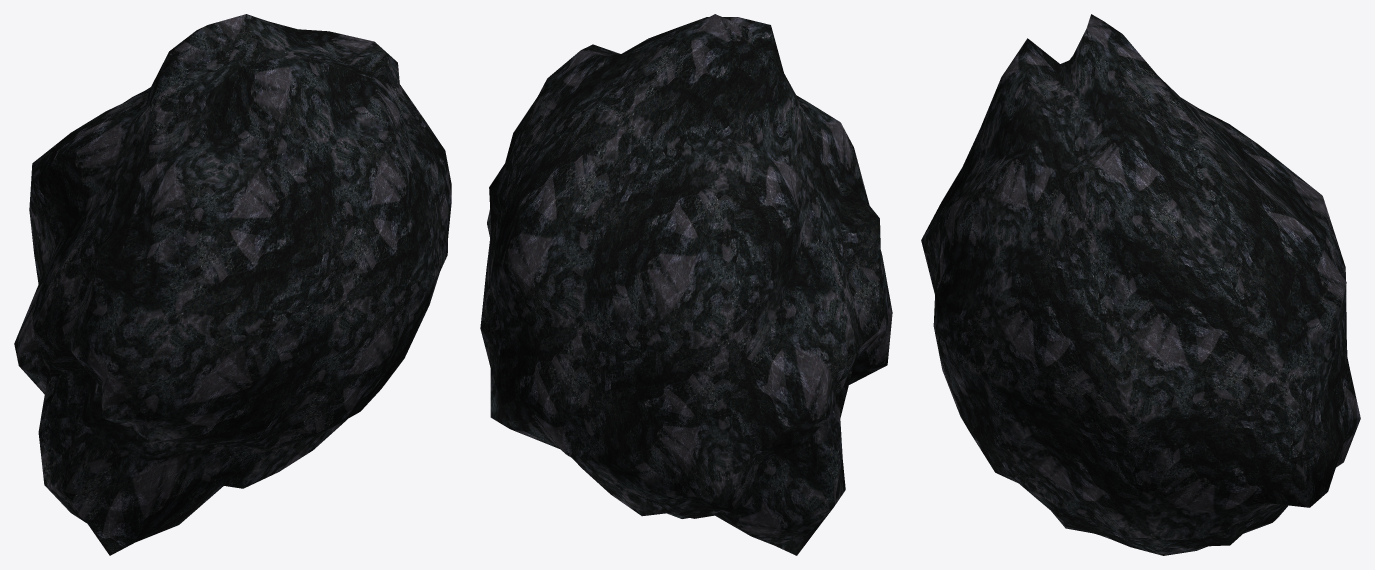
File: asteroid_obsidian_large_s02_l0.fbx
3 renders of one model, left to right at view 1: azimuth 30°, elevation 25°; view 2: azimuth 150°, elevation 25°; view 3: azimuth 270°, elevation 25°, orthographic. The views are drawn at different scales.
Parts seen in each view (by area): view 1: mesh_node; view 2: mesh_node; view 3: mesh_node.
Part boxes in pixels (x1=…): mesh_node: x1=14, y1=14, x2=451, y2=555; mesh_node: x1=480, y1=14, x2=892, y2=555; mesh_node: x1=921, y1=14, x2=1360, y2=555.
Size of the model in its own units: 114 by 144 by 102.
